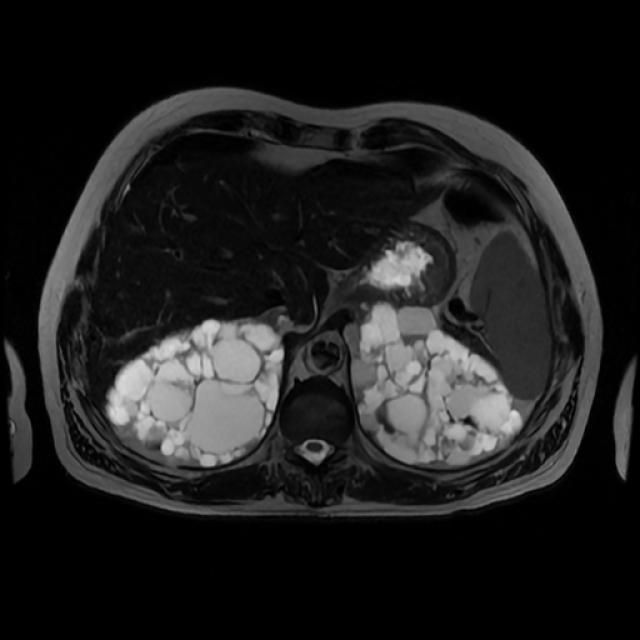sag: (104, 320, 284, 466)
sol: (350, 301, 524, 466)
